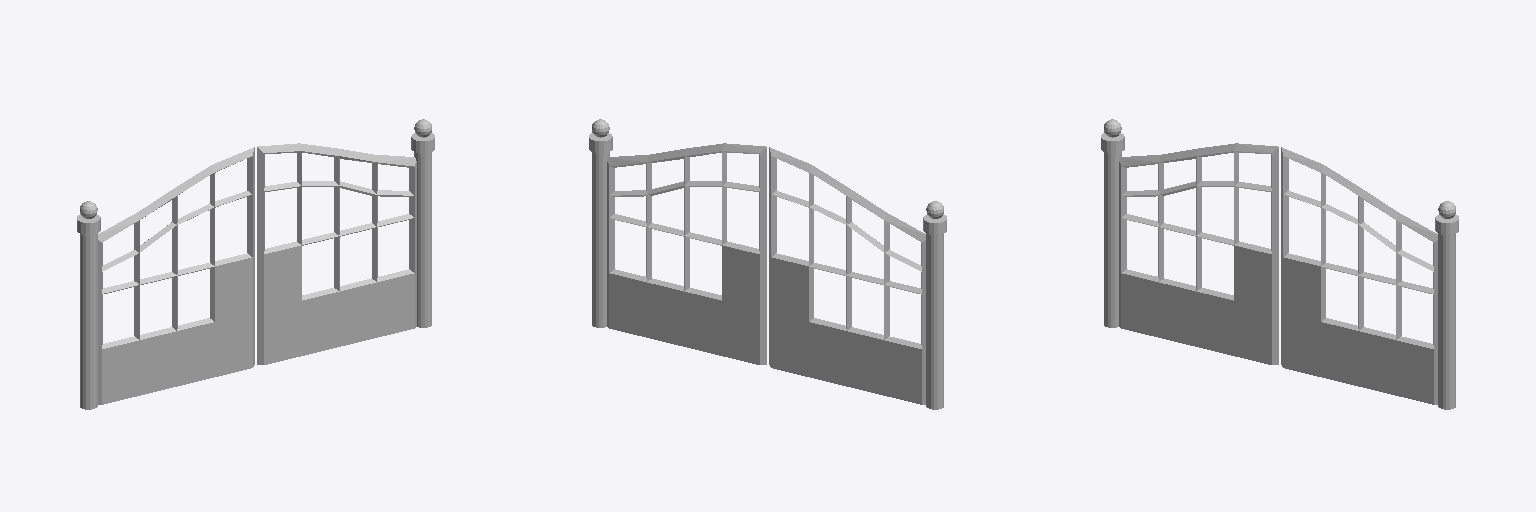
File: ManorGate.obj
The picture shows the model from 3 angles: view 1: azimuth 30°, elevation 25°; view 2: azimuth 150°, elevation 25°; view 3: azimuth 330°, elevation 25°; orthographic projection.
Visible parts, largest first — view 1: Manor_Gate_Cylinder; view 2: Manor_Gate_Cylinder; view 3: Manor_Gate_Cylinder.
Part boxes in pixels (x1,y1,x2,y2): Manor_Gate_Cylinder: (77,119,434,409); Manor_Gate_Cylinder: (589,119,946,409); Manor_Gate_Cylinder: (1101,119,1458,409).
Size of the model in its own units: 6.15 by 3.6 by 0.3654.